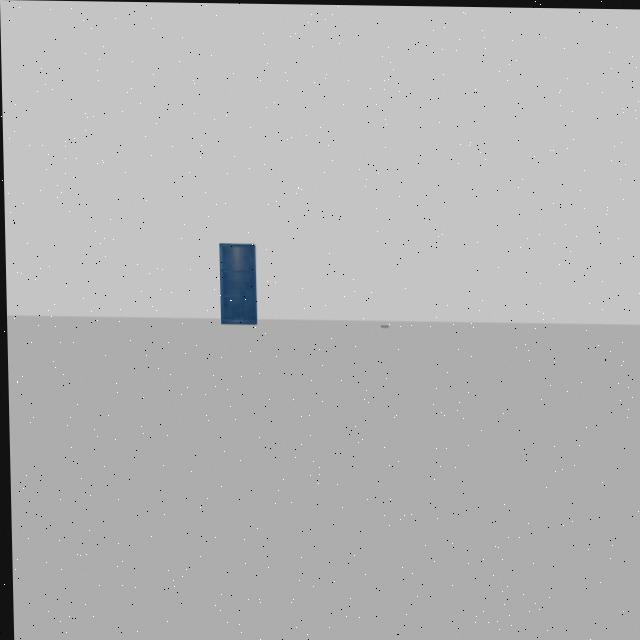bowl: (375, 320, 395, 334)
shelf: (216, 233, 257, 332)
